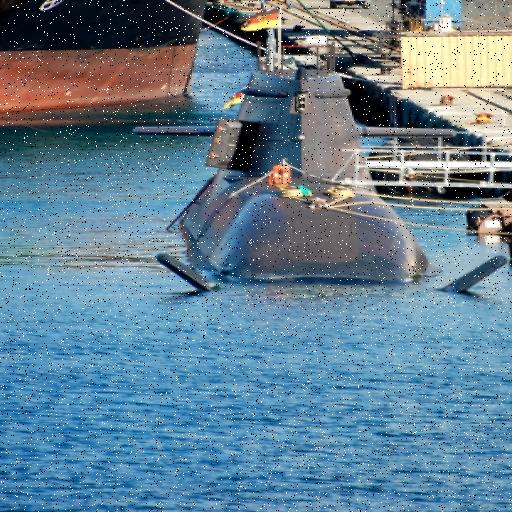submarine: (139, 52, 508, 303)
